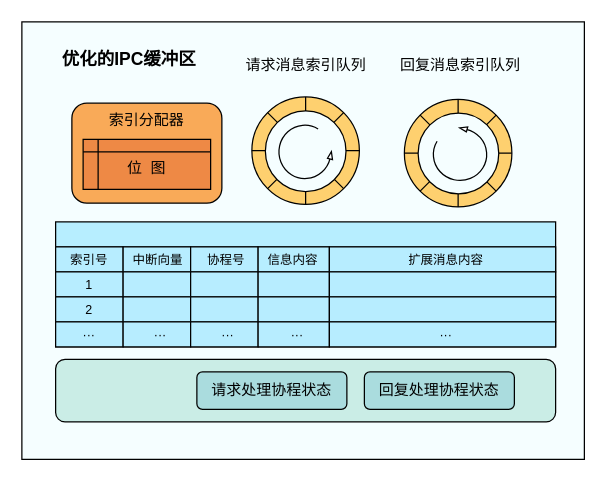
The diagram is 606 pixels wide and 481 high, and some of its shapes have lost their labels. The shapes that lost their labels are listed below. From the top down, each one's box as (x1, y1, x2, y2) in pixels, then its label:
(54, 221, 556, 347): 数据区
(54, 358, 556, 422): 原子变量
